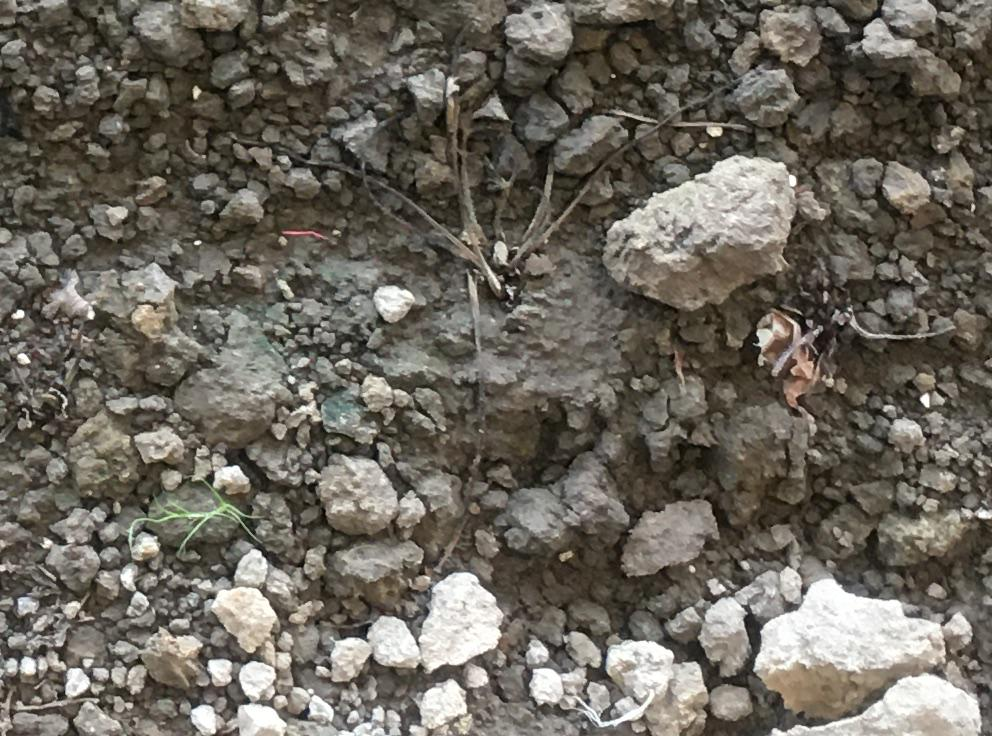block: (599, 155, 799, 310), (752, 579, 958, 719), (417, 568, 507, 677)
